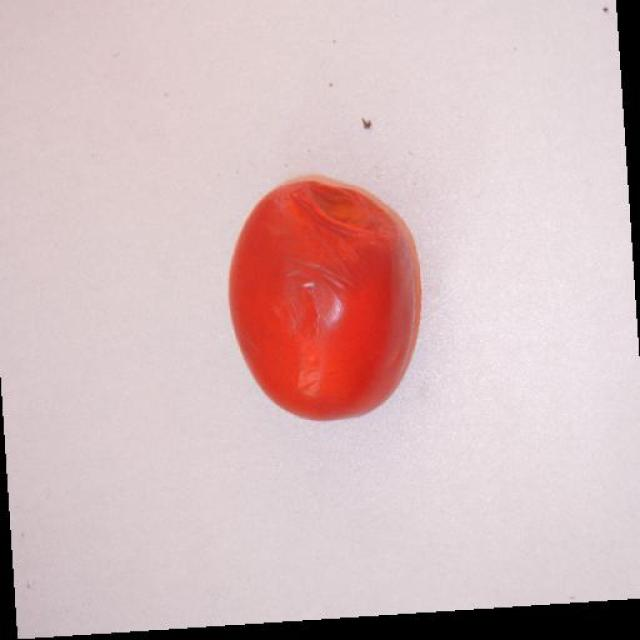Stale_tomato: (235, 184, 397, 402)
